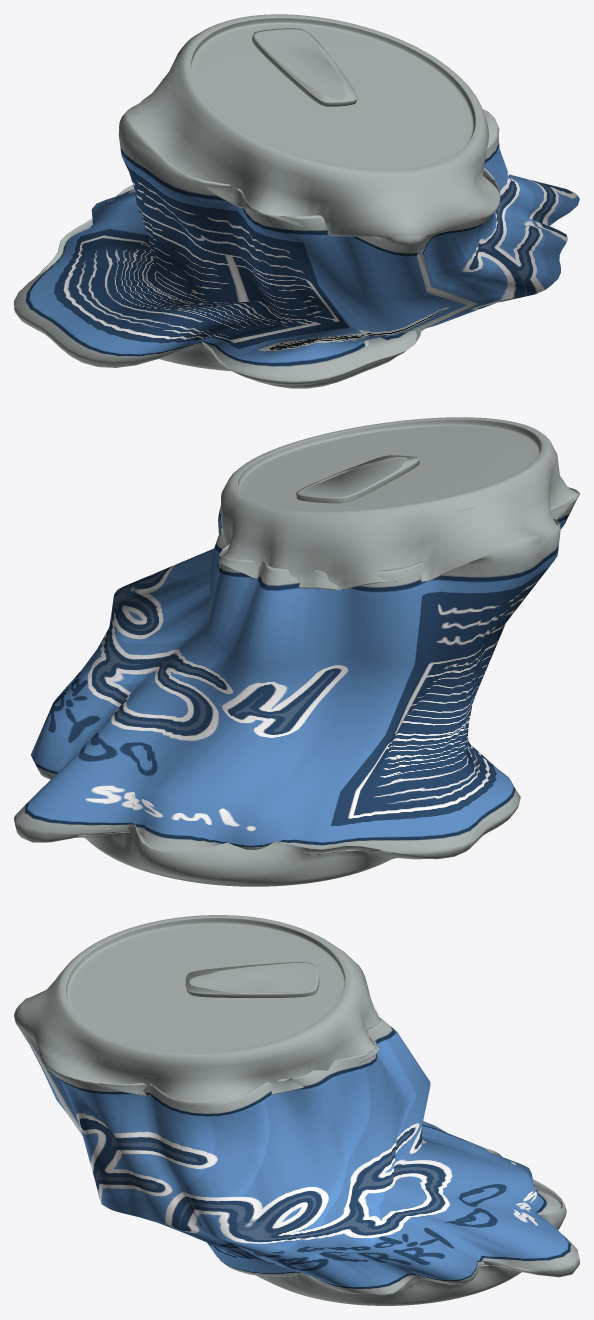
The model's file is Lata_4.fbx.
3 views of the same model, one above another, from view 1: azimuth 30°, elevation 25°; view 2: azimuth 150°, elevation 25°; view 3: azimuth 270°, elevation 25° (orthographic). The views are drawn at different scales.
Parts seen in each view (by area): view 1: Lata_4; view 2: Lata_4; view 3: Lata_4.
Boxes of the visible parts, x1,y1,x2,y2 form: Lata_4: (14, 14, 579, 388); Lata_4: (14, 417, 579, 886); Lata_4: (14, 915, 579, 1305).
Bounding box in the file's own units: 93.42 × 60.92 × 118.
